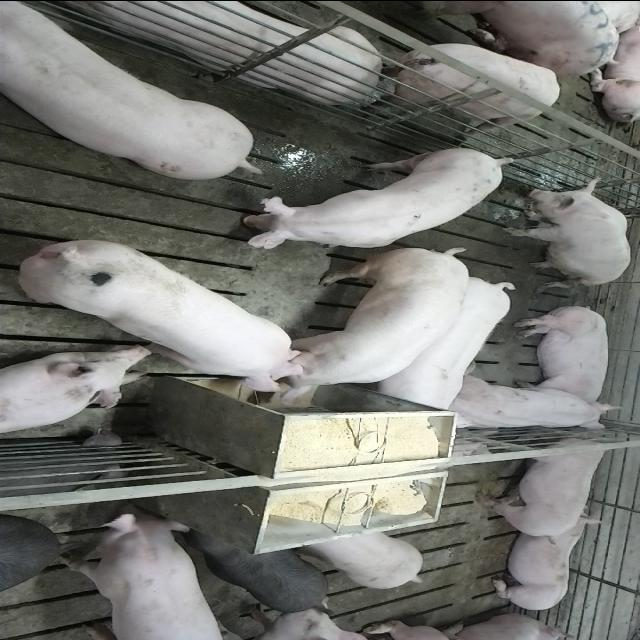Feeding: (16, 237, 310, 400), (258, 248, 472, 412)
Lateral_lying: (512, 302, 622, 418)
Sitting: (501, 174, 633, 285)
Standing: (0, 0, 257, 176), (229, 144, 511, 247), (59, 509, 235, 639), (377, 274, 519, 412), (363, 35, 565, 132), (472, 433, 614, 538), (190, 534, 334, 612), (298, 530, 426, 590), (2, 514, 72, 596)
Sternal_lying: (37, 0, 385, 100), (0, 346, 156, 437), (486, 515, 604, 612)
